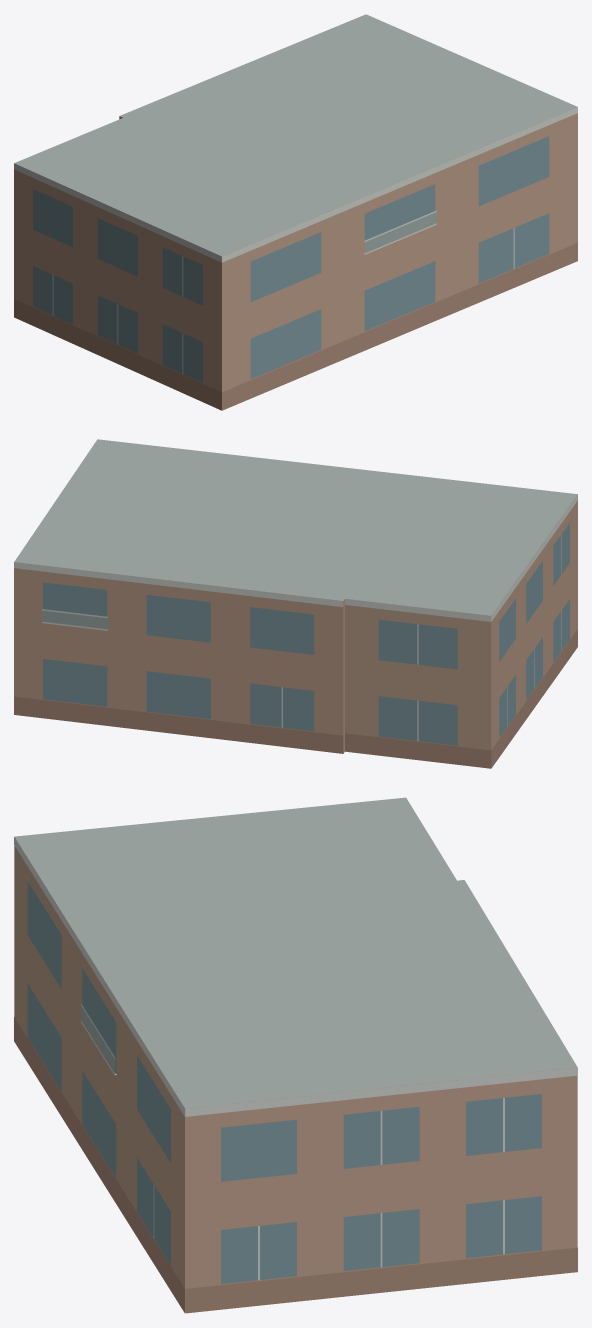
File: survey-upis-32661491.glb
The picture shows the model from 3 angles, top to bottom: view 1: azimuth 30°, elevation 25°; view 2: azimuth 150°, elevation 25°; view 3: azimuth 270°, elevation 25°; orthographic projection. The views are drawn at different scales.
Parts seen in each view (by area): view 1: survey-upis-32661491.tmp; view 2: survey-upis-32661491.tmp; view 3: survey-upis-32661491.tmp.
Boxes of the visible parts, x1,y1,x2,y2 form: survey-upis-32661491.tmp: (14, 14, 577, 410); survey-upis-32661491.tmp: (14, 439, 577, 768); survey-upis-32661491.tmp: (14, 797, 577, 1313).
Size of the model in its own units: 19.91 by 6.1 by 15.24.
